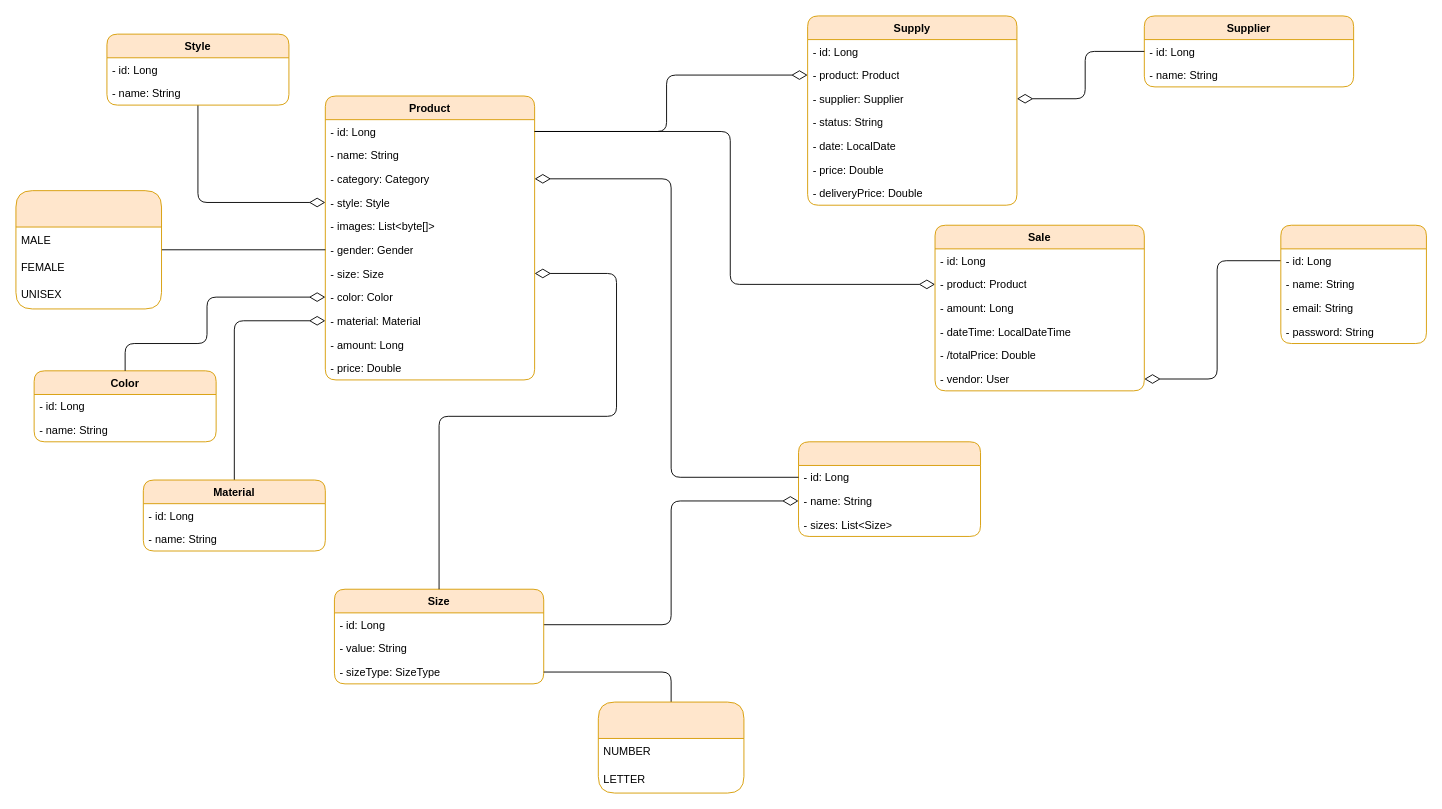
The diagram is 1442 pixels wide and 809 high, and some of its shapes have lost their labels. Here are the shapes that lost their labels. From the top down, the box of each, then its label:
(15, 190, 162, 309): <<enumeration>> Gender
(1280, 224, 1426, 344): User
(798, 441, 981, 536): Category
(597, 701, 744, 793): <<enumeration>> SizeType
